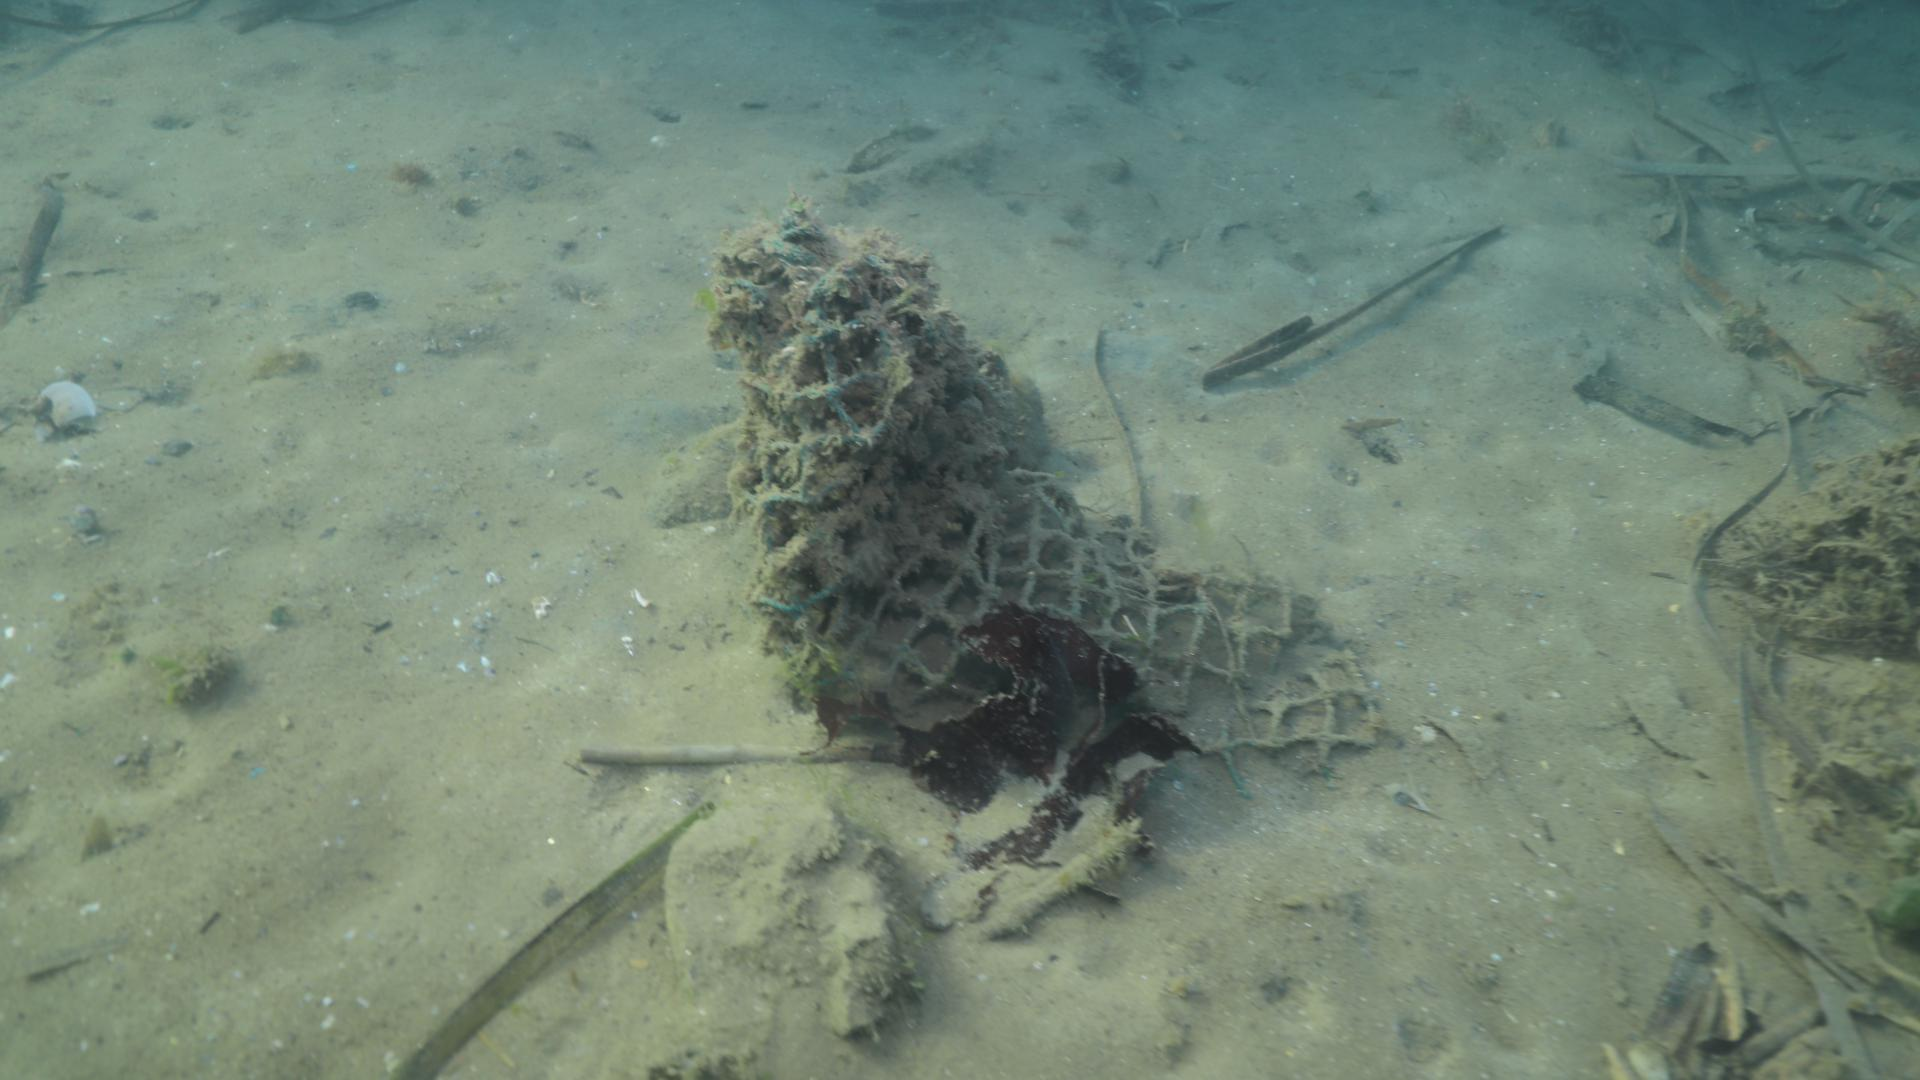fish net: (715, 208, 1382, 793)
